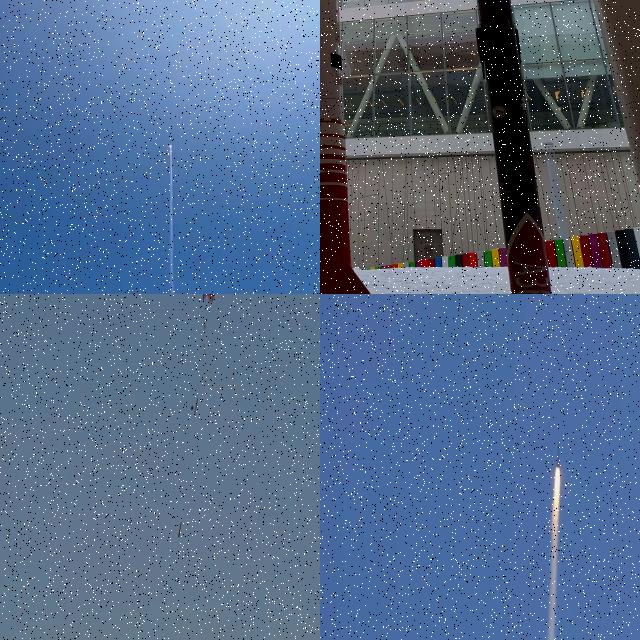Rocket: (475, 0, 552, 294), (320, 0, 371, 294), (555, 441, 561, 468), (178, 522, 182, 538), (169, 142, 172, 148)
